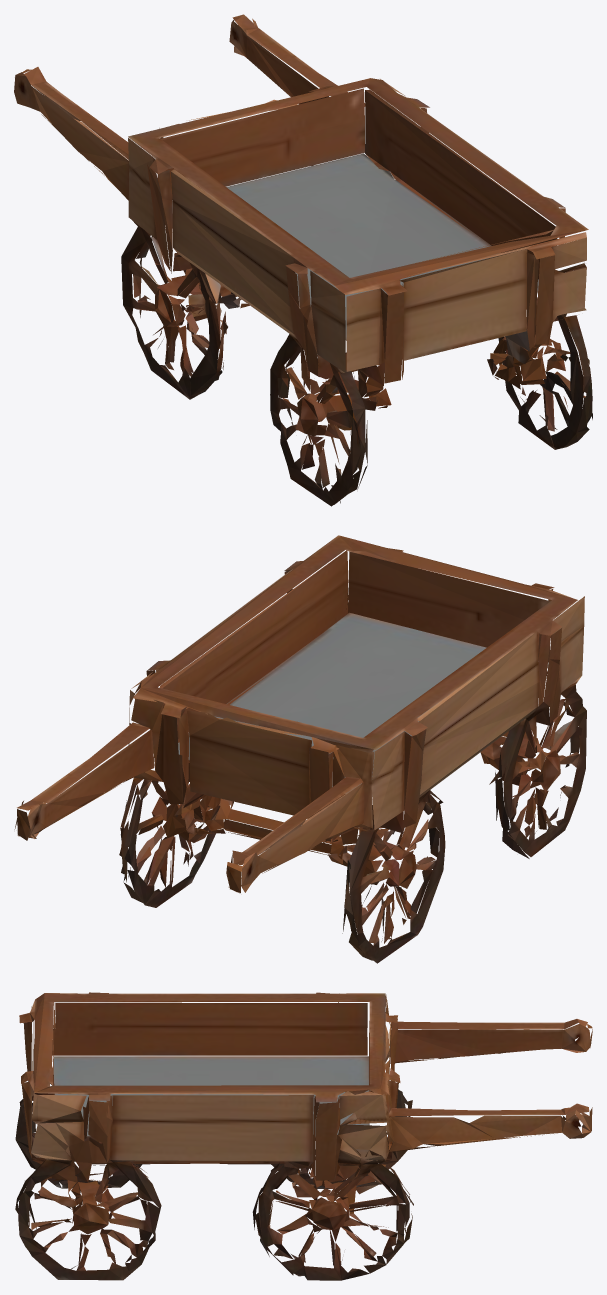
The model's file is cart.glb.
3 views of the same model, one above another, from view 1: azimuth 30°, elevation 25°; view 2: azimuth 150°, elevation 25°; view 3: azimuth 270°, elevation 25° (orthographic). The views are drawn at different scales.
Visible parts, largest first — view 1: textured_mesh.obj; view 2: textured_mesh.obj; view 3: textured_mesh.obj.
Part boxes in pixels (x1,y1,x2,y2): textured_mesh.obj: (14,14,592,506); textured_mesh.obj: (14,535,586,963); textured_mesh.obj: (15,992,592,1280).
Bounding box in the file's own units: 0.6806 × 0.5485 × 1.5.
1 material, 1 textured.
